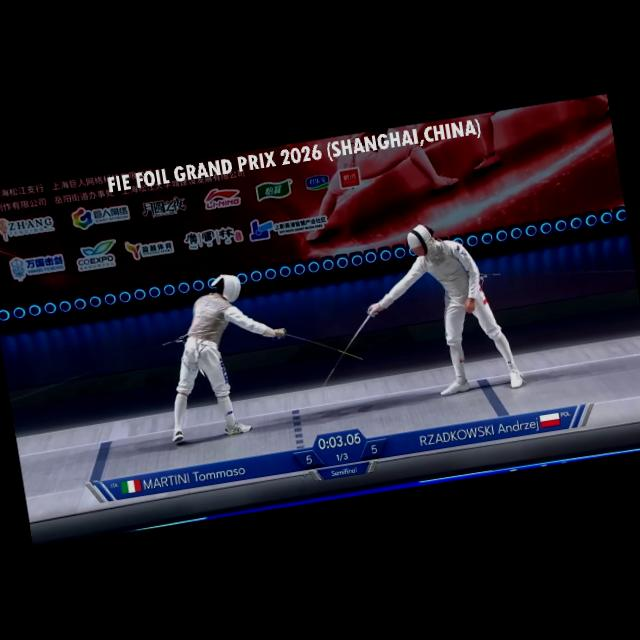blade: (302, 302, 395, 402), (268, 308, 369, 381)
